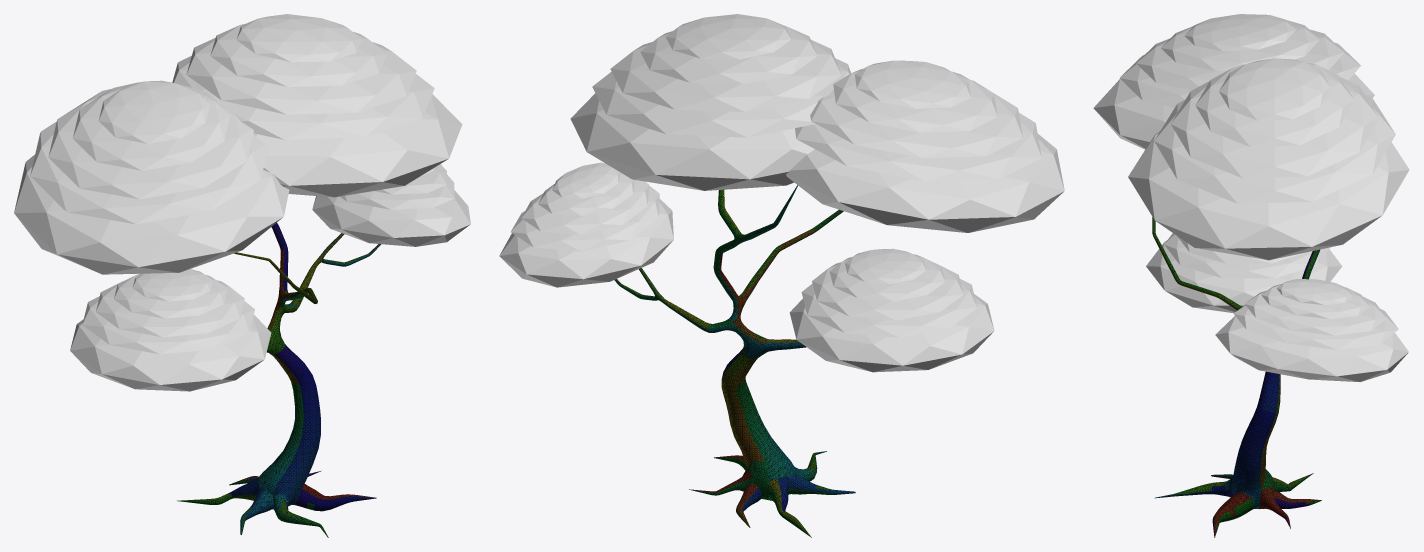
Rendered from starting_oak_v2.fbx.
3 renders of one model, left to right at view 1: azimuth 30°, elevation 25°; view 2: azimuth 150°, elevation 25°; view 3: azimuth 270°, elevation 25°, orthographic. The views are drawn at different scales.
Visible parts, largest first — view 1: Leaves, Plane.001; view 2: Leaves, Plane.001; view 3: Leaves, Plane.001.
Part boxes in pixels (x1=…): Leaves: x1=14, y1=14, x2=470, y2=391; Plane.001: x1=177, y1=222, x2=380, y2=537; Leaves: x1=499, y1=14, x2=1064, y2=372; Plane.001: x1=614, y1=185, x2=855, y2=537; Leaves: x1=1093, y1=14, x2=1409, y2=381; Plane.001: x1=1152, y1=217, x2=1321, y2=537.
Bounding box in the file's own units: 34.74 × 33.06 × 21.36.
Materials: 2 (1 with a texture image).
